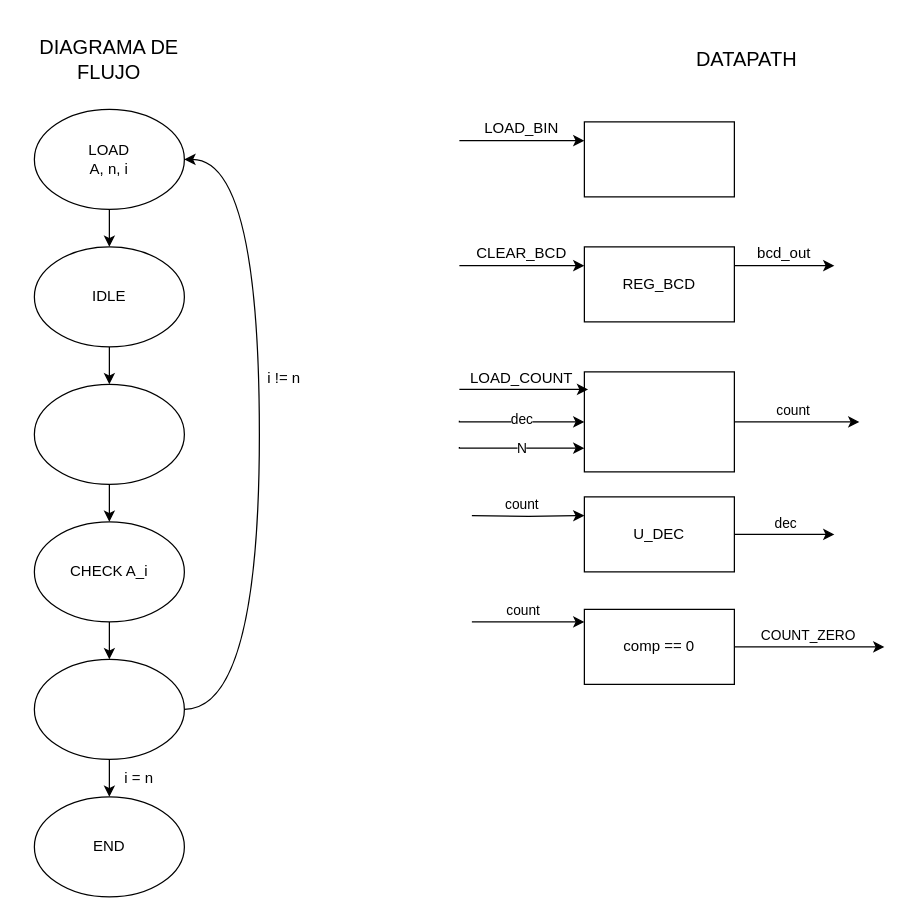
This 916x919 diagram has some shape labels left out. The shapes that lost their labels are listed below. From the top down, each one's box as (x1, y1, x2, y2) in pixels, then its label:
(583, 121, 734, 197): REG_BIN
(33, 383, 184, 484): SHIFT B:A
(583, 371, 734, 472): REG_COUNT
(33, 658, 184, 759): Add +3 i = i+1
